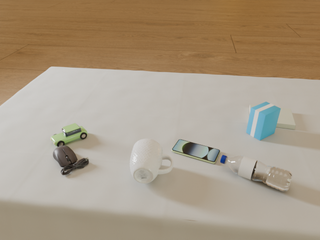book: (250, 104, 296, 129)
bottle: (220, 155, 293, 191)
box: (246, 102, 281, 140)
cup: (130, 139, 173, 183)
mouse: (53, 145, 89, 175)
phone: (172, 139, 220, 163)
toy_car: (50, 123, 87, 147)
